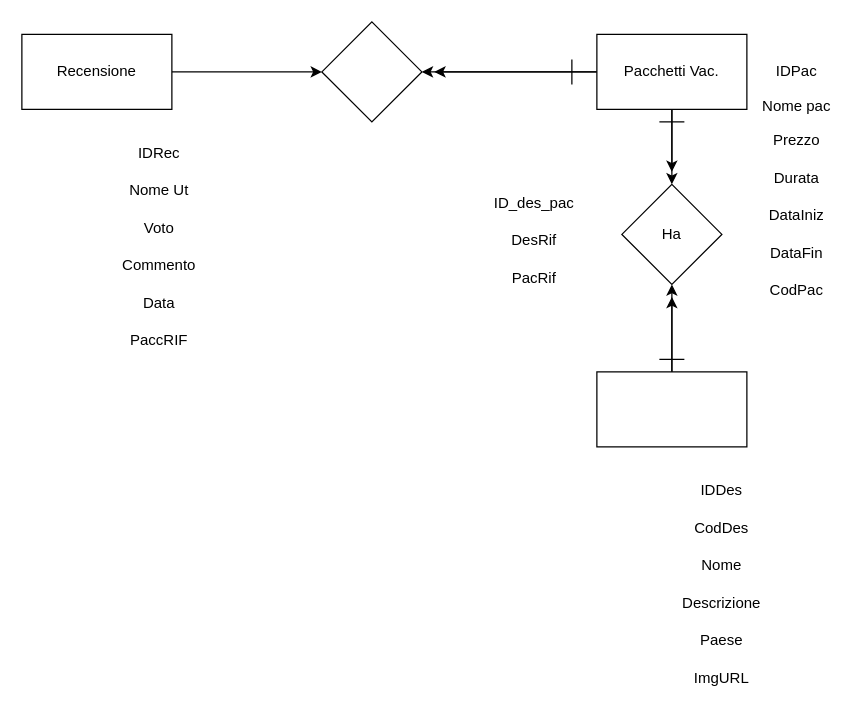
Some shapes in this 856 by 719 pixel diagram are drawn without their labels. The shapes that lost their labels are listed below. From the top down, each one's centre as x and y in pixels, then its label:
At (x=371, y=71): "Contiene".
At (x=671, y=409): "Destinazione".
